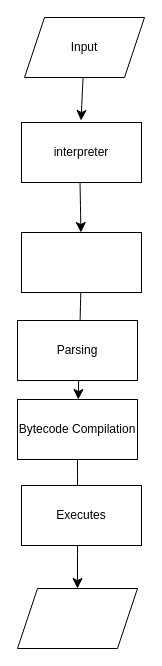
This 162x666 diagram has some shape labels left out. The centre of each missing label's shape, as x and y in pixels:
"Lexical Analysis" goes at point (81, 262).
"Output" goes at point (77, 618).
